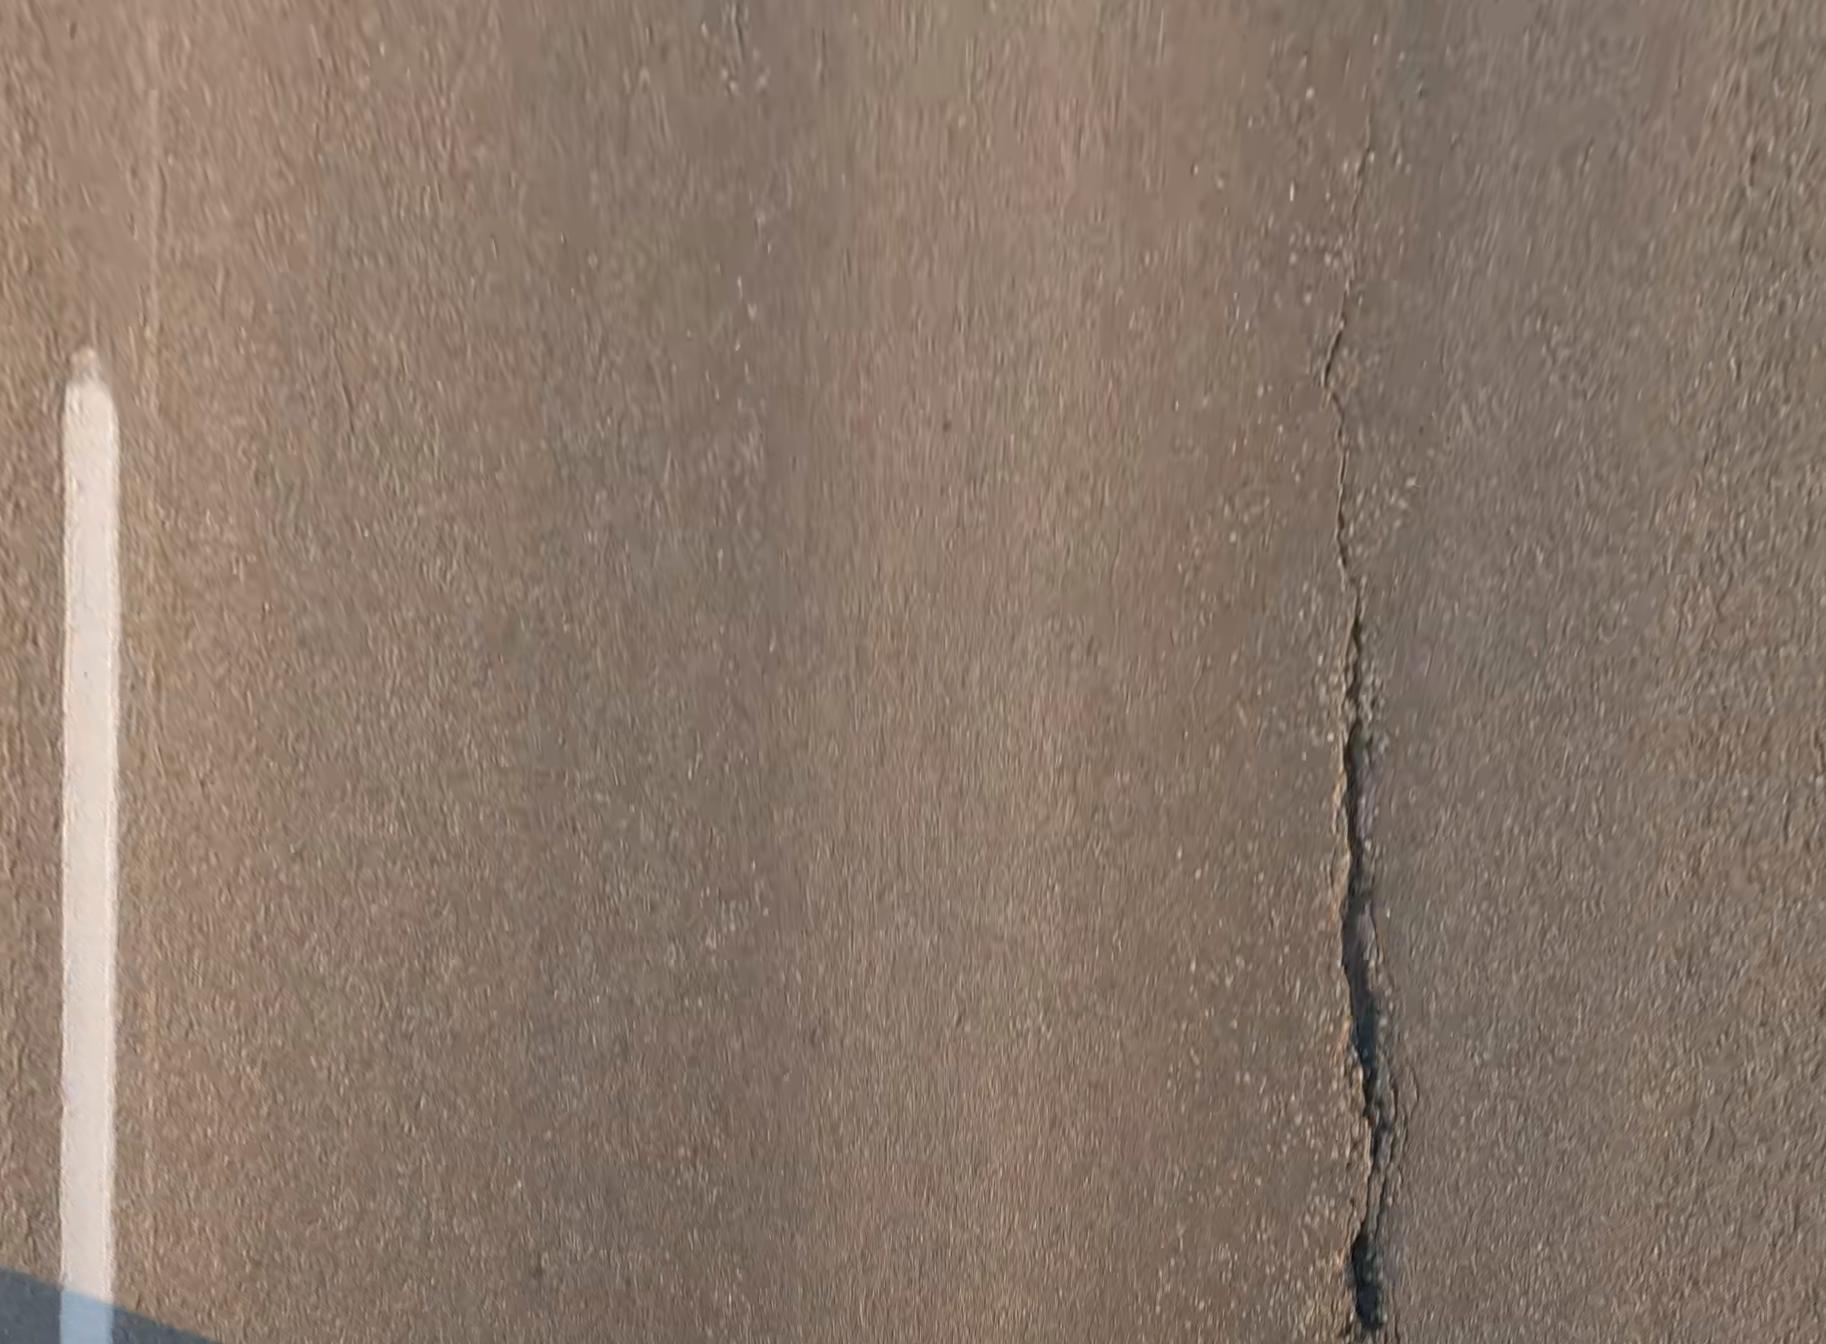pothole: (1343, 720, 1377, 1120), (1352, 1228, 1388, 1340)
